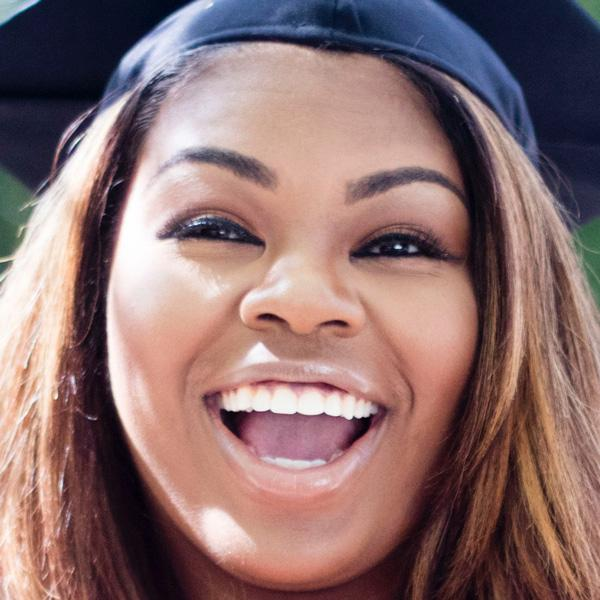Eyes: (152, 191, 269, 266), (344, 210, 465, 282)
